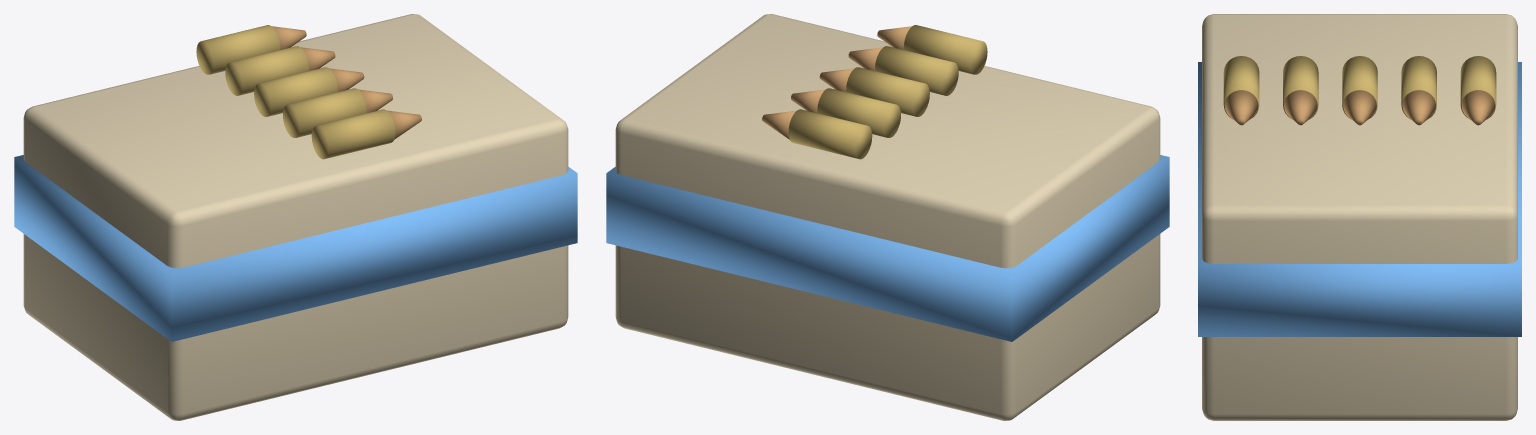
The model's file is SM_Ammo_9mm.glb.
3 renders of one model, left to right at view 1: azimuth 30°, elevation 25°; view 2: azimuth 150°, elevation 25°; view 3: azimuth 270°, elevation 25°, orthographic. The views are drawn at different scales.
Parts seen in each view (by area): view 1: SM_Ammo_9mm; view 2: SM_Ammo_9mm; view 3: SM_Ammo_9mm.
Part boxes in pixels (<box>): SM_Ammo_9mm: <box>14,14,577,420</box>; SM_Ammo_9mm: <box>606,14,1169,420</box>; SM_Ammo_9mm: <box>1198,14,1521,420</box>.
Bounding box in the file's own units: 0.122 × 0.0705 × 0.082.
